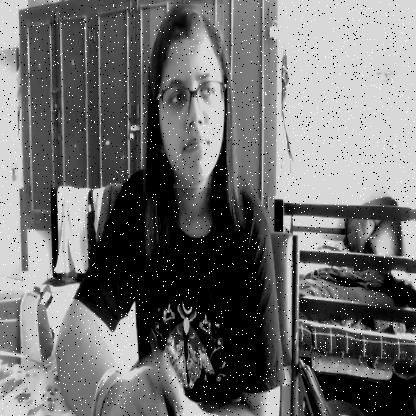Normal: (150, 4, 224, 188)
